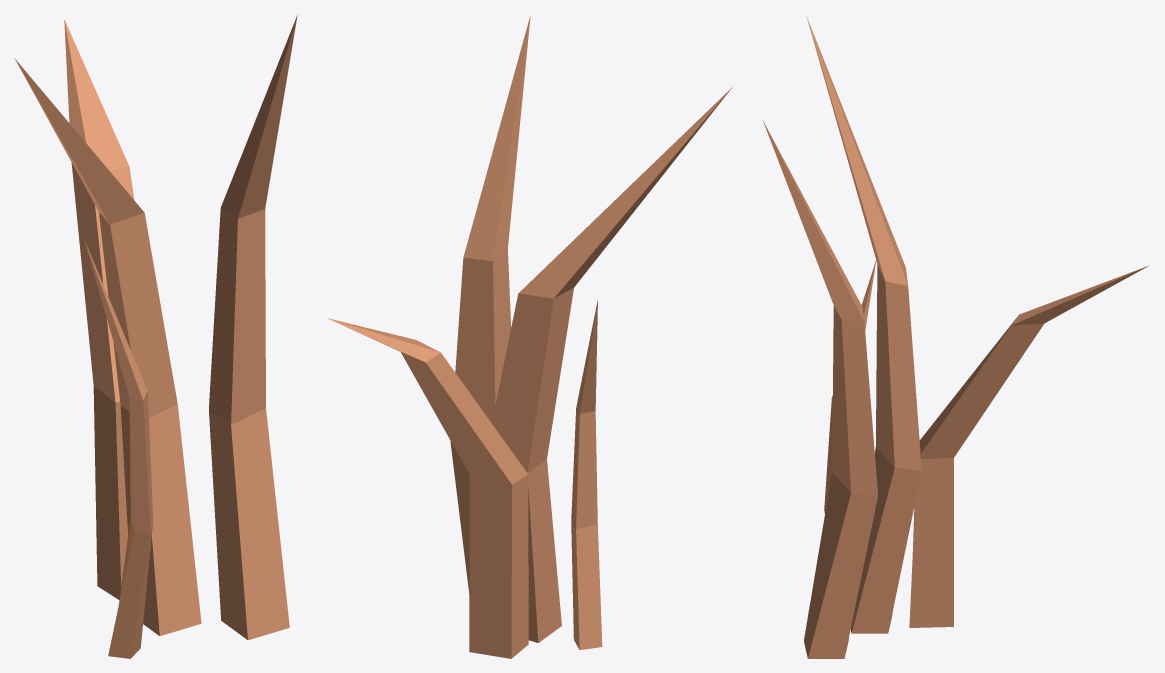
Rendered from 01_02Grass_Red.fbx.
3 renders of one model, left to right at view 1: azimuth 30°, elevation 25°; view 2: azimuth 150°, elevation 25°; view 3: azimuth 270°, elevation 25°, orthographic. The views are drawn at different scales.
Parts seen in each view (by area): view 1: Icosphere.063; view 2: Icosphere.063; view 3: Icosphere.063.
Boxes of the visible parts, bbox=[...] form: Icosphere.063: bbox=[15, 15, 297, 658]; Icosphere.063: bbox=[327, 15, 732, 658]; Icosphere.063: bbox=[762, 15, 1149, 658].
Size of the model in its own units: 30.47 by 67.63 by 44.07.
